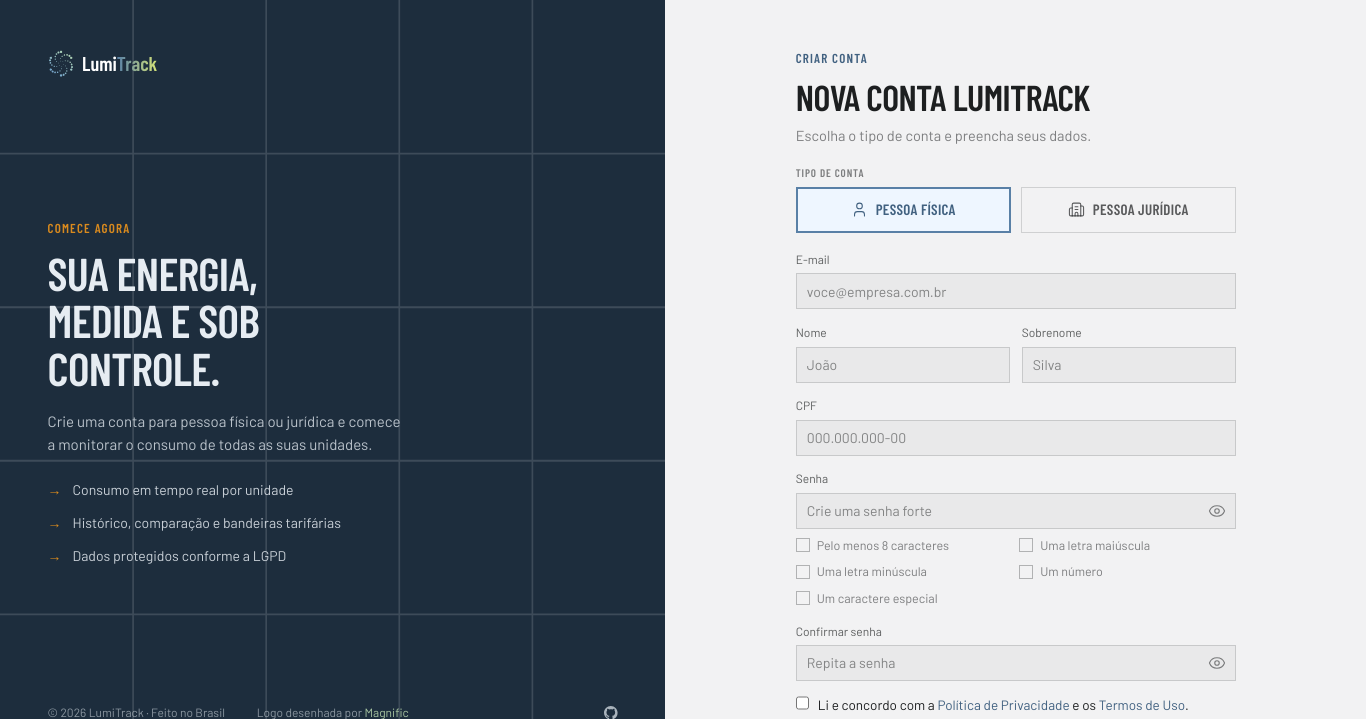
RegisterPage — toggle PF/PJ › volta para PF e mostra campos pessoais
Click the button labelled "Pessoa Jurídica". click: (1128, 210)
box: [1021,187,1236,233]
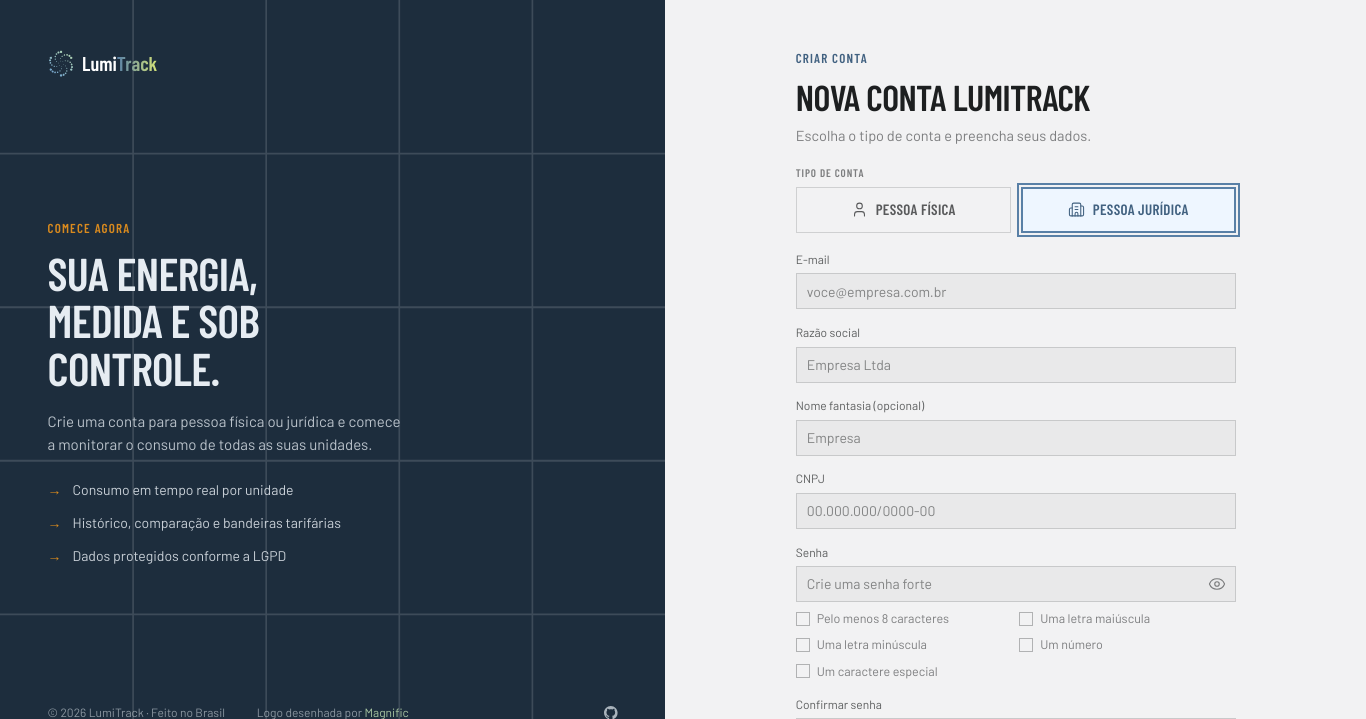
Click the button labelled "Pessoa Física". click: (903, 210)
box: [796,187,1011,233]
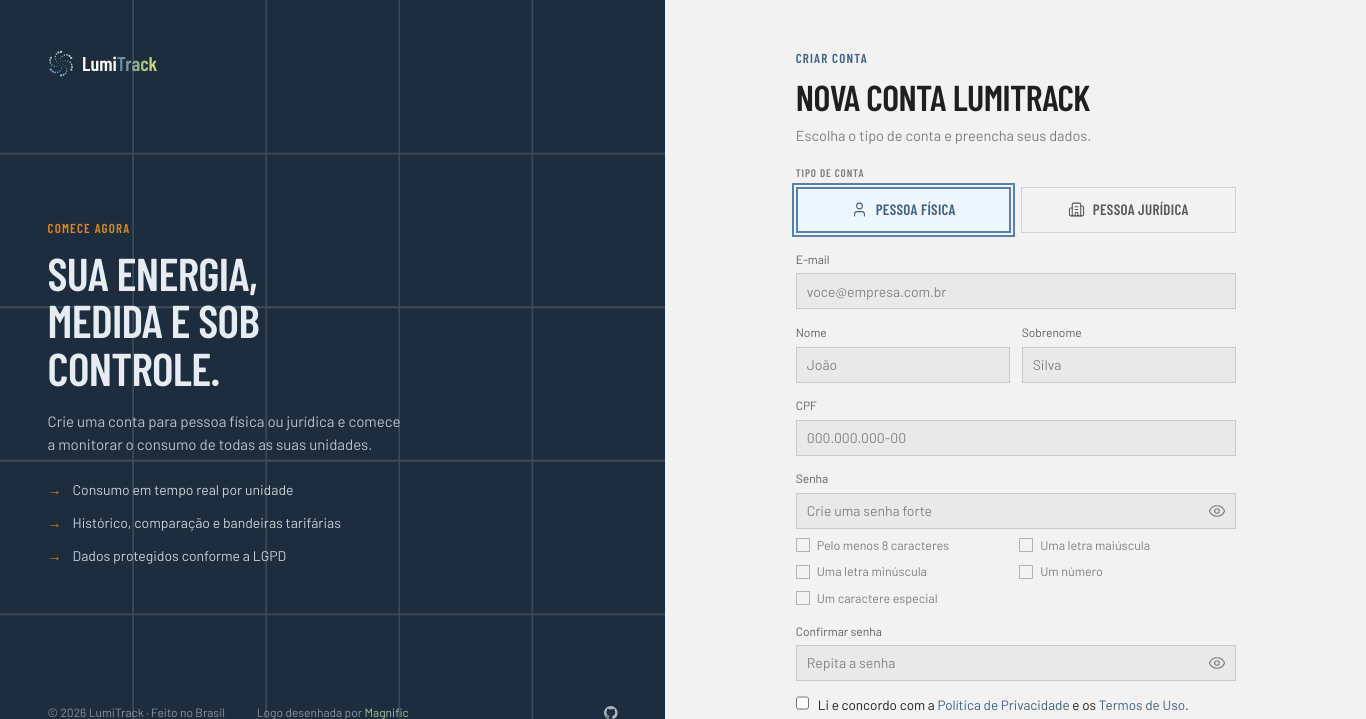
Result: the field labelled "Nome" is shown at [796,347,1010,383]
Result: the label labelled "Razão social" is gone
